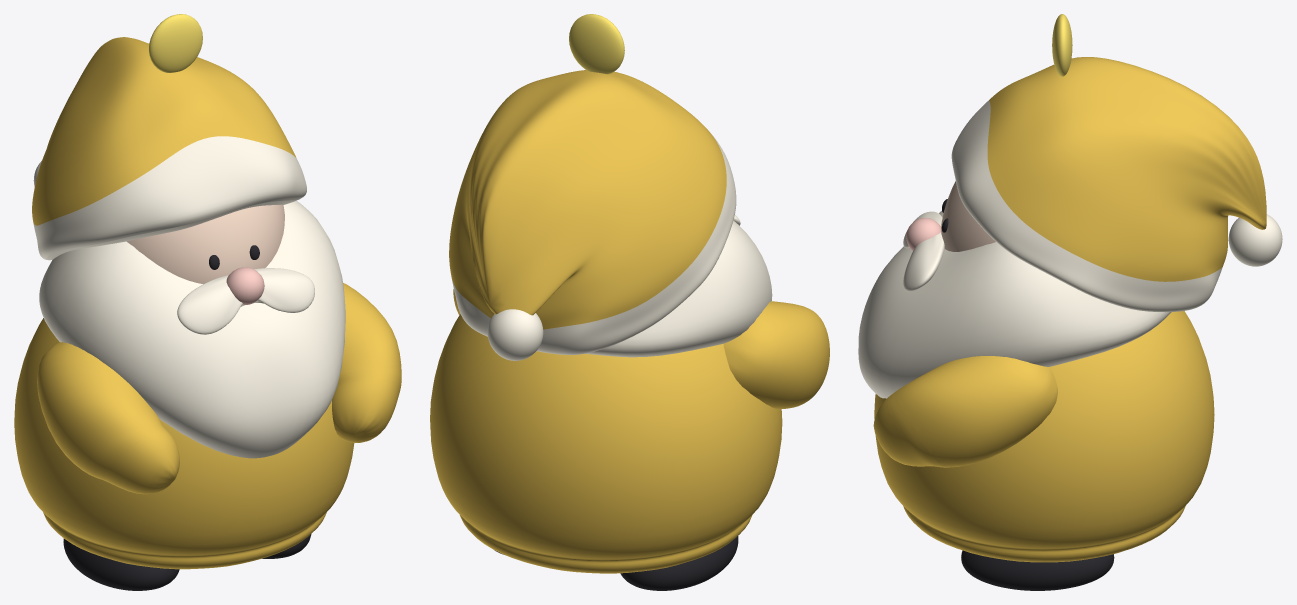
Rendered from golden.glb.
The picture shows the model from 3 angles, left to right: view 1: azimuth 30°, elevation 25°; view 2: azimuth 150°, elevation 25°; view 3: azimuth 270°, elevation 25°; orthographic projection. The views are drawn at different scales.
Visible parts, largest first — view 1: golden_red, golden_white, golden_skin, golden_black, golden_yellow, golden_nose; view 2: golden_red, golden_white, golden_yellow, golden_black; view 3: golden_red, golden_white, golden_black, golden_skin, golden_yellow, golden_nose.
Part boxes in pixels (x1,y1,x2,y2): golden_red: [14, 37, 401, 569]; golden_white: [33, 136, 345, 458]; golden_skin: [127, 205, 284, 283]; golden_black: [63, 245, 311, 590]; golden_yellow: [149, 14, 202, 72]; golden_nose: [226, 267, 264, 304]; golden_red: [430, 70, 829, 573]; golden_white: [451, 130, 772, 360]; golden_yellow: [569, 14, 624, 74]; golden_black: [494, 536, 738, 590]; golden_red: [873, 57, 1266, 562]; golden_white: [858, 100, 1282, 398]; golden_black: [942, 199, 1114, 590]; golden_skin: [941, 181, 995, 251]; golden_yellow: [1052, 14, 1072, 76]; golden_nose: [906, 218, 941, 250].
Bounding box in the file's own units: 2.14 × 3.26 × 2.37.
